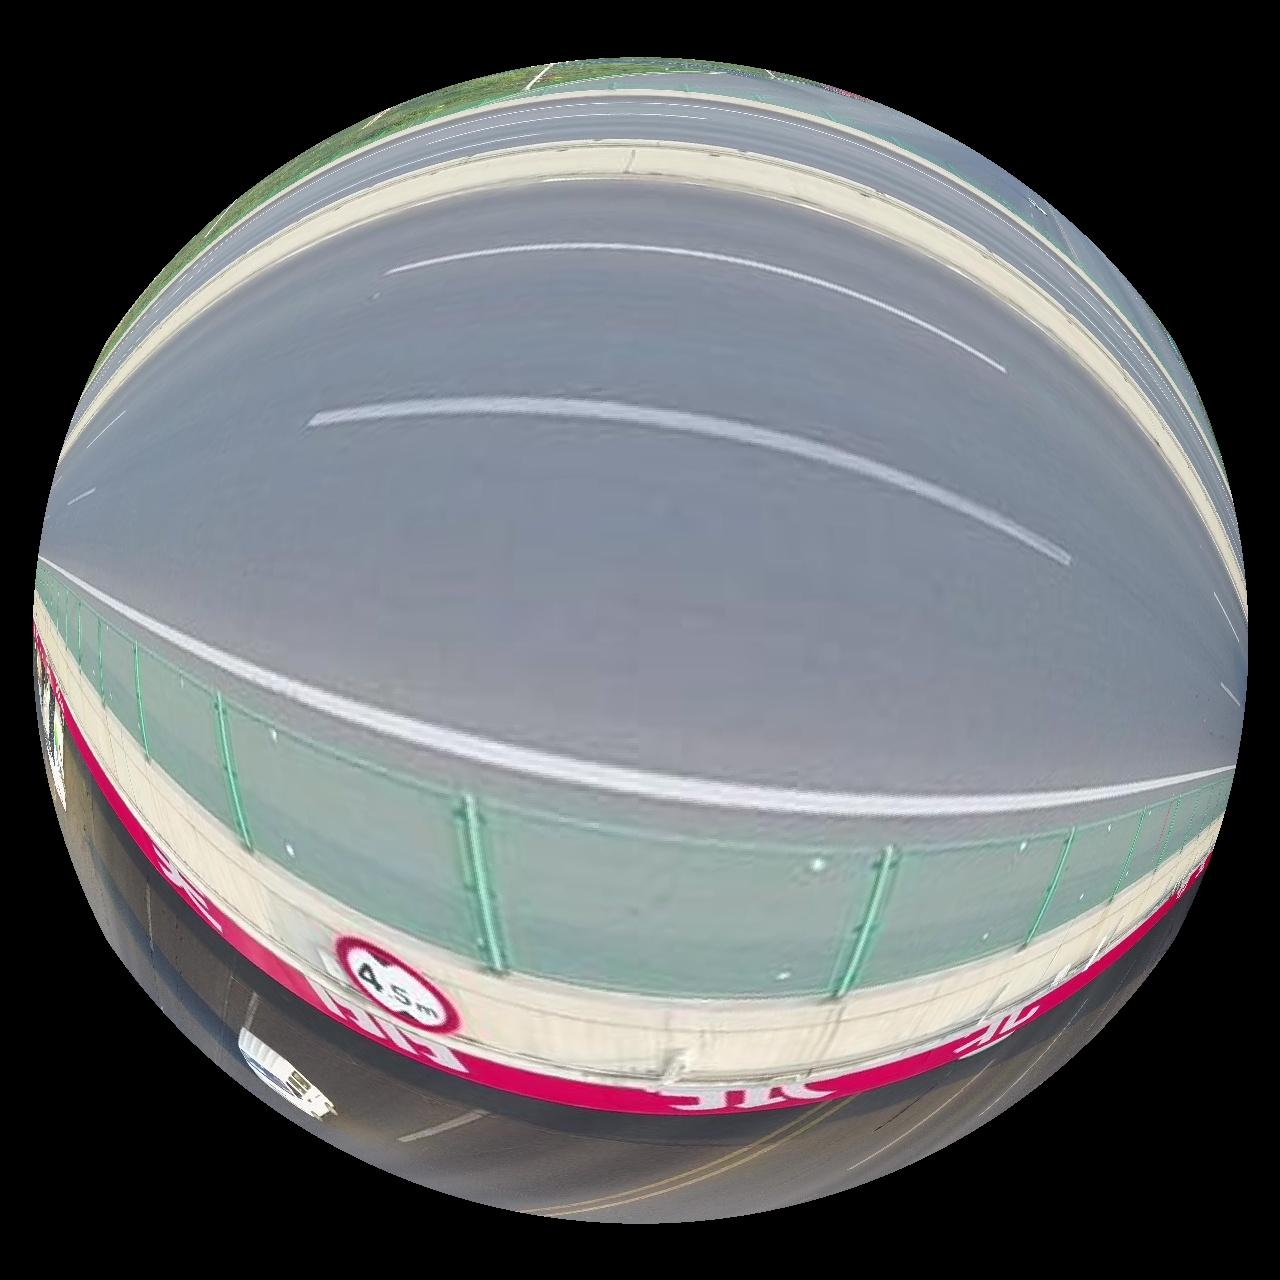cars: (237, 1029, 336, 1122)
